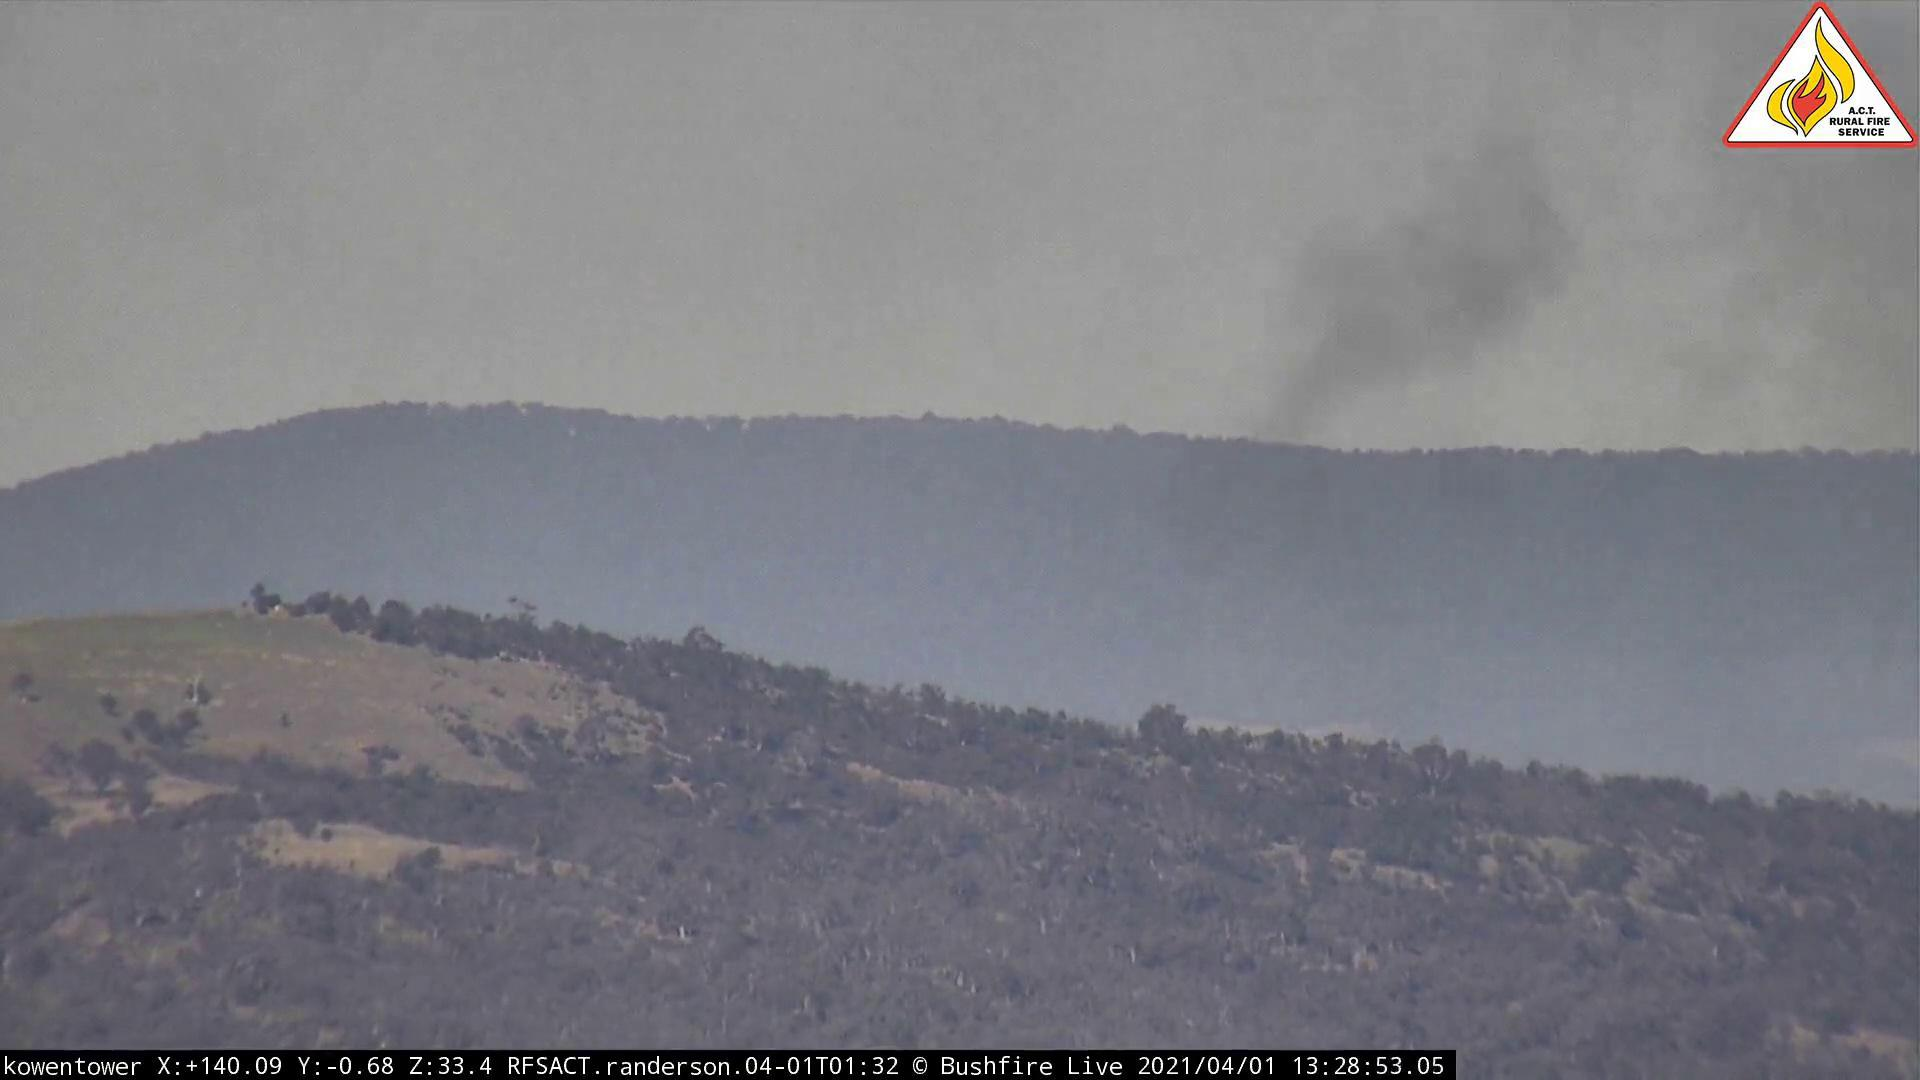Smoke: (1118, 3, 1920, 750)
